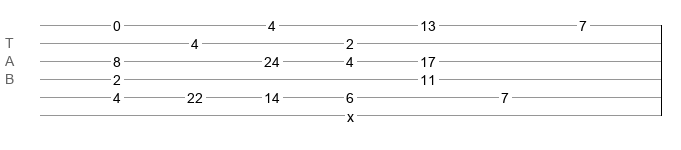0: (113, 18, 121, 28)
11: (420, 72, 436, 82)
13: (420, 18, 436, 28)
14: (264, 90, 280, 100)
17: (420, 54, 436, 64)
2: (113, 72, 121, 82), (346, 36, 354, 46)
22: (187, 90, 203, 100)
24: (264, 54, 280, 64)
4: (113, 90, 121, 100), (191, 36, 199, 46), (268, 18, 276, 28), (346, 54, 354, 64)
6: (346, 90, 354, 100)
7: (501, 90, 509, 100), (579, 18, 587, 28)
8: (113, 54, 121, 64)
x: (347, 109, 354, 117)
